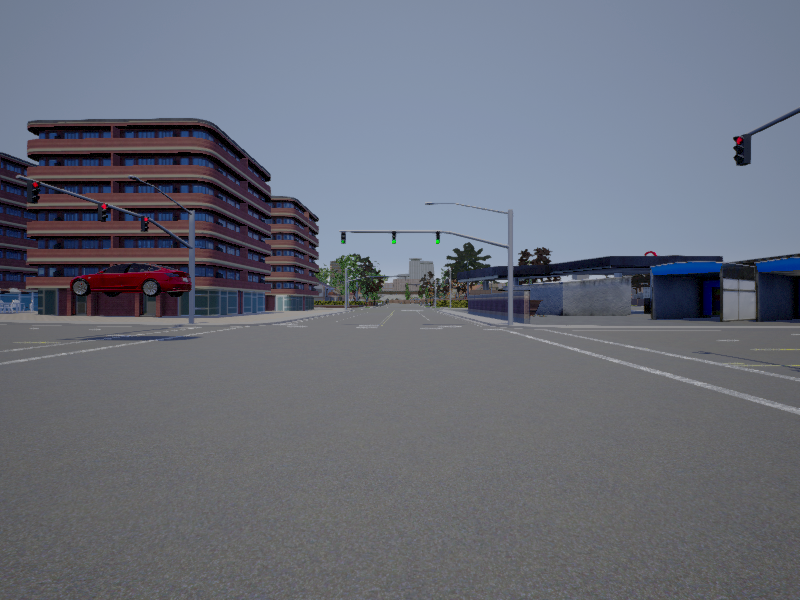Attacker: (70, 263, 191, 296)
